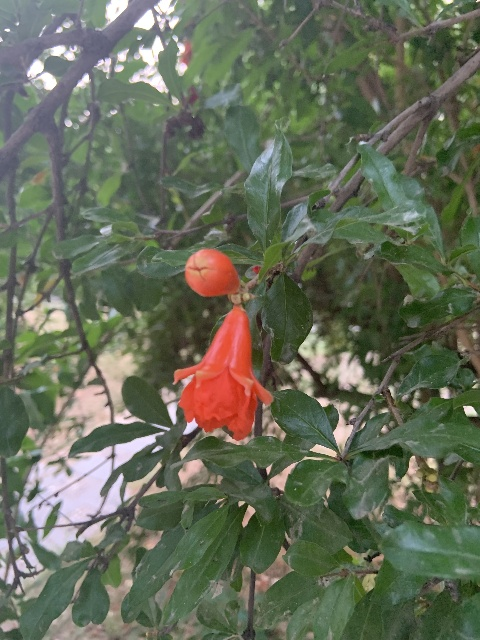bud: (184, 249, 239, 297)
flower: (173, 304, 272, 442)
